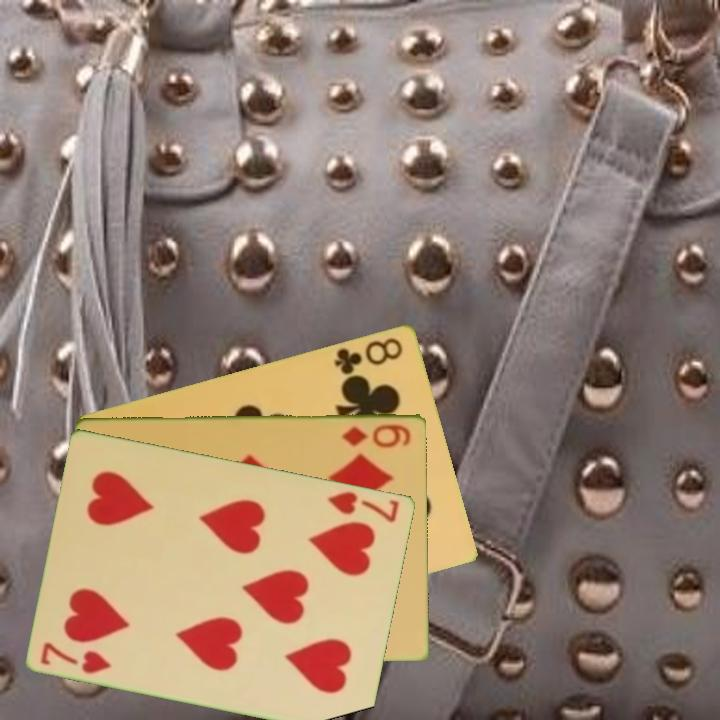6d: (339, 420, 414, 450)
7h: (37, 638, 115, 677), (324, 487, 402, 525)
8c: (331, 333, 406, 377)
